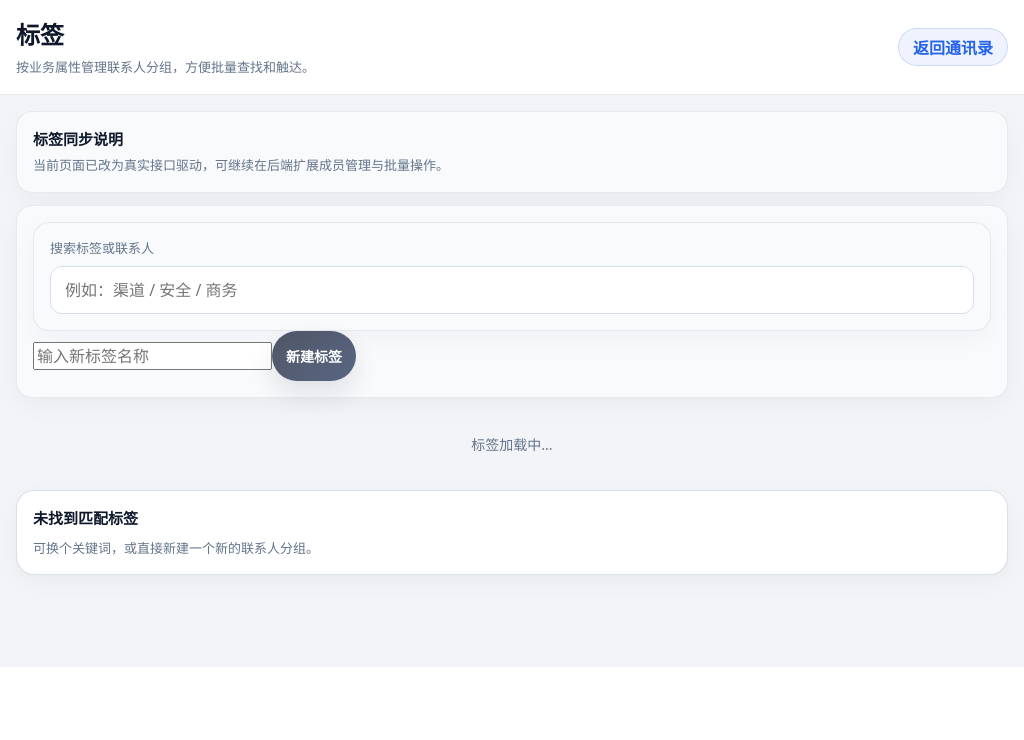
Test: App route entry › loads, filters and creates tags from api
The width and height of the screenshot is (1024, 740).
In the field labelled "搜索标签或联系人": x=512, y=290 [50,266,974,314], type "安全"
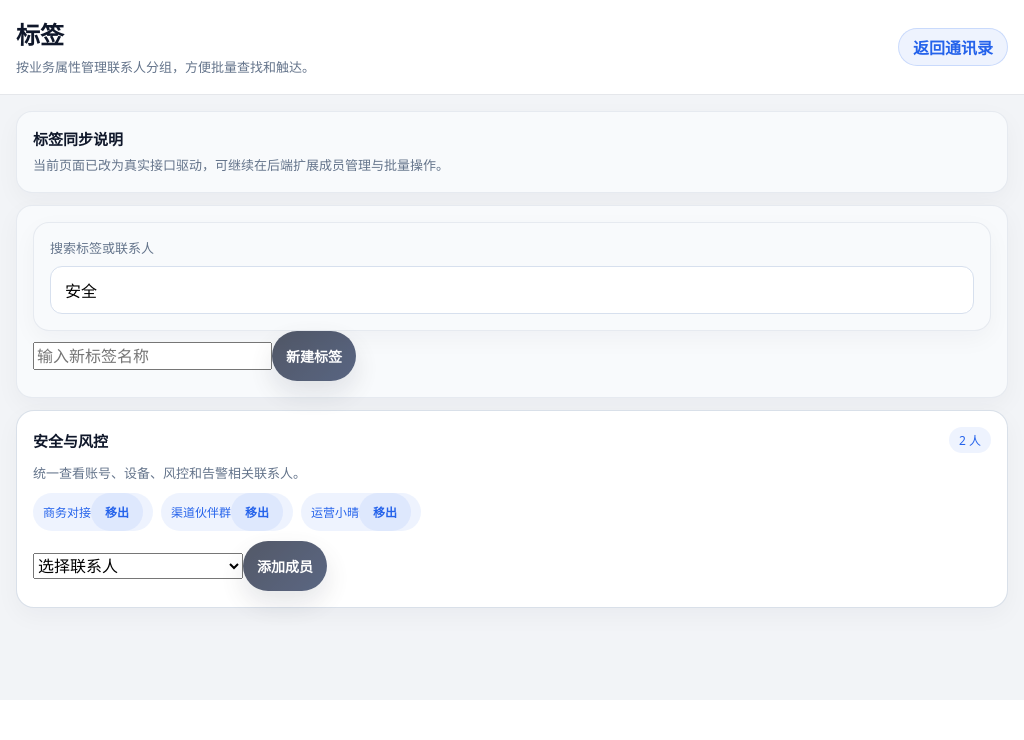
Expected: the text "渠道合作" is not shown
Result: the text "安全与风控" is shown at [33,430,108,451]
In the field labelled "新标签名称": x=152, y=356 [33,342,272,370], type "重点跟进"
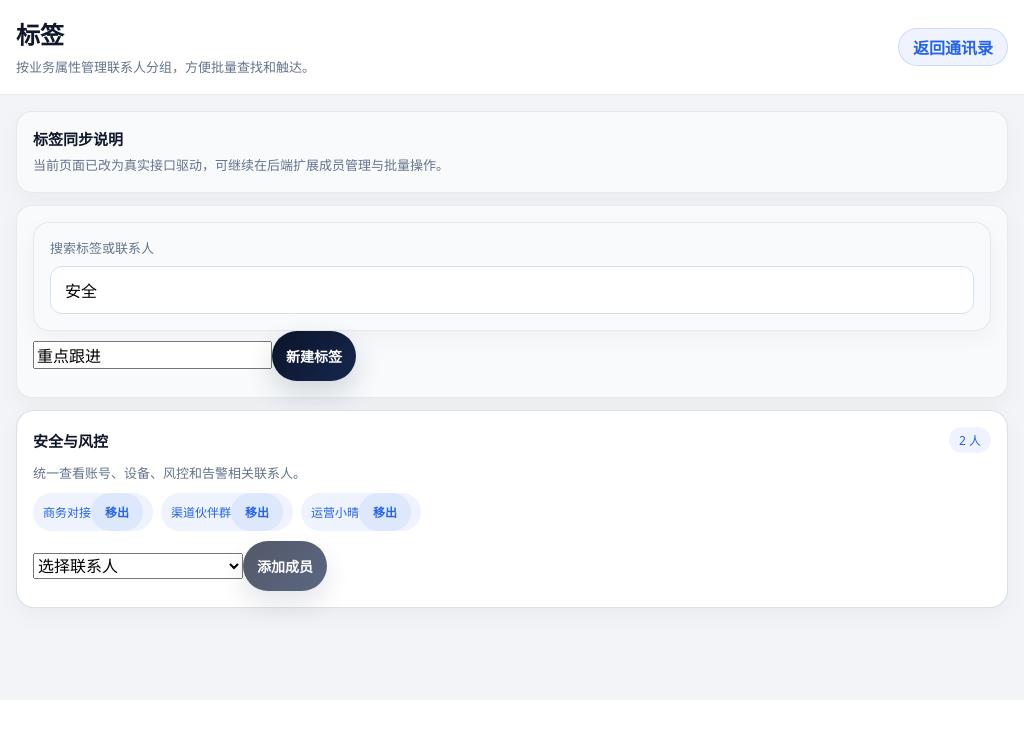
Click the button "新建标签": x=314, y=356 [272,331,356,381]
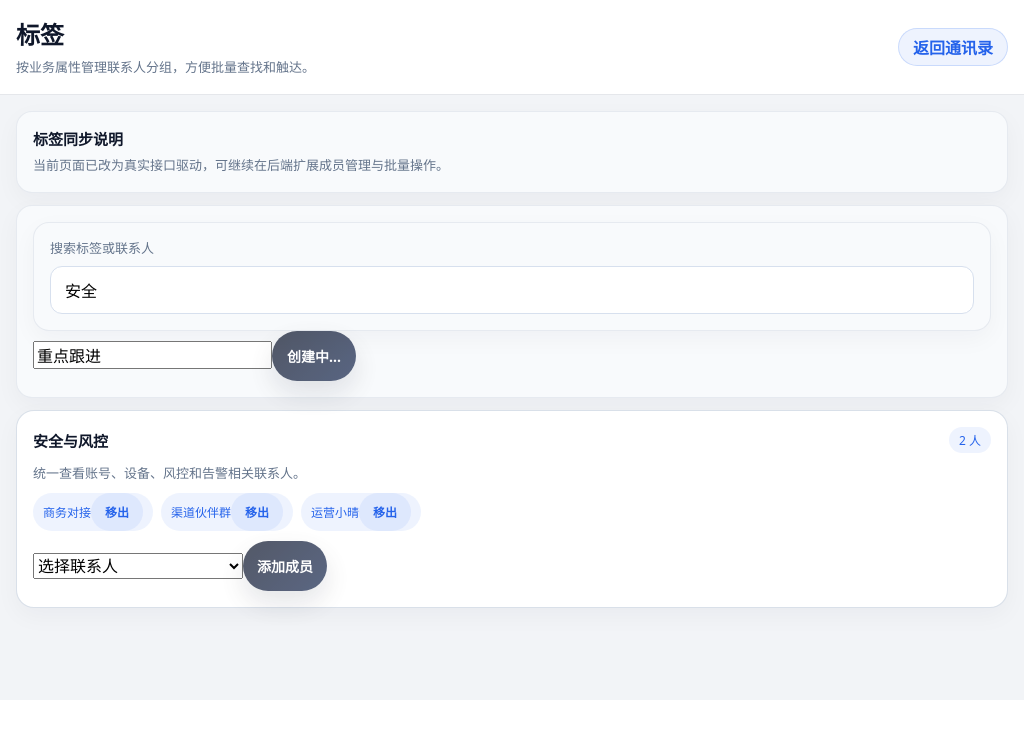
Clear the field labelled "搜索标签或联系人": x=512, y=290 [50,266,974,314]
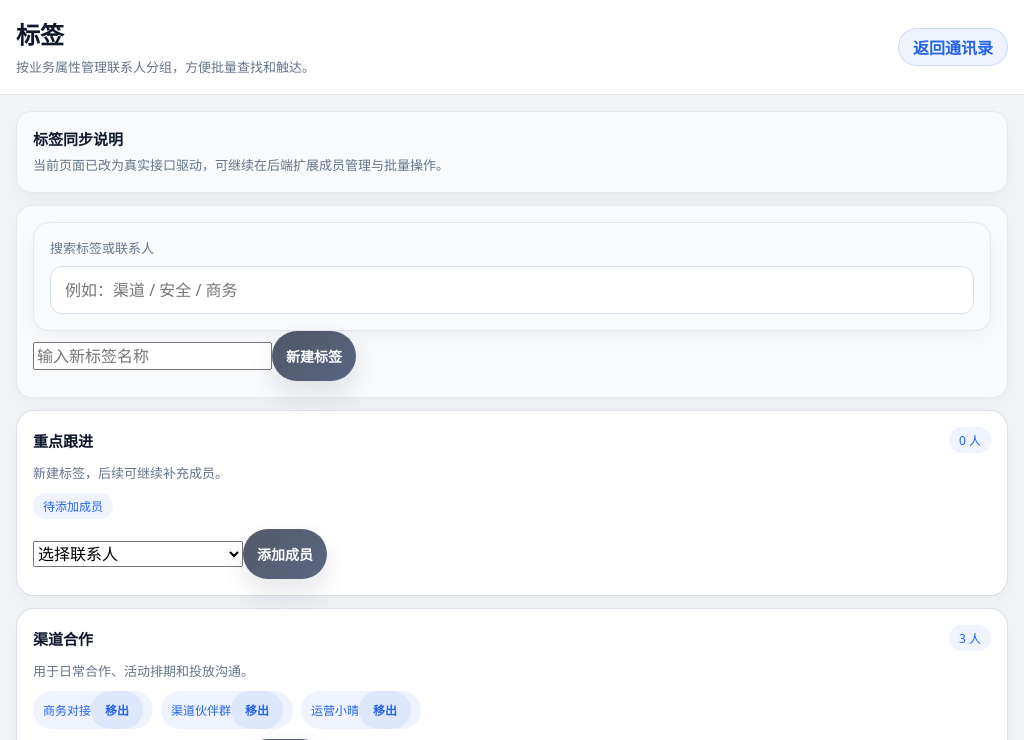
Result: the text "重点跟进" is shown at [33,430,93,451]
